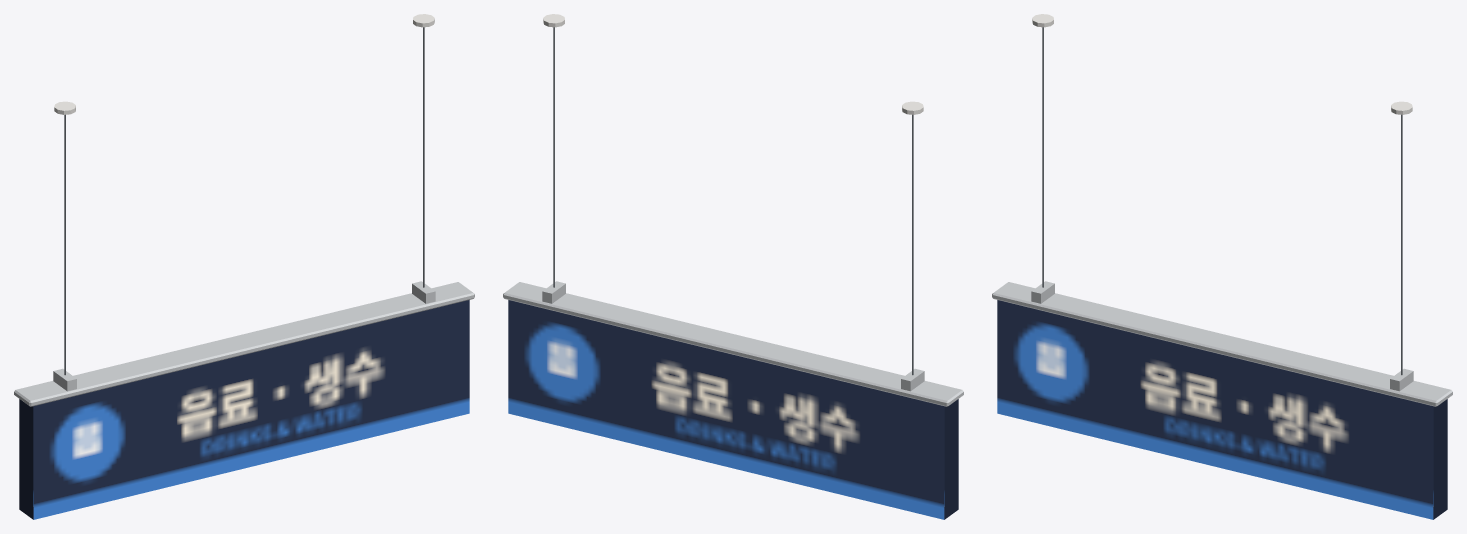
Rendered from SC_Fix_Aisle_Sign_Drink.gltf.
3 renders of one model, left to right at view 1: azimuth 30°, elevation 25°; view 2: azimuth 150°, elevation 25°; view 3: azimuth 330°, elevation 25°, orthographic.
Visible parts, largest first — view 1: SC_Fix_Aisle_Sign_Drink; view 2: SC_Fix_Aisle_Sign_Drink; view 3: SC_Fix_Aisle_Sign_Drink.
Part boxes in pixels (x1,y1,x2,y2): SC_Fix_Aisle_Sign_Drink: (14,14,474,519); SC_Fix_Aisle_Sign_Drink: (503,14,963,519); SC_Fix_Aisle_Sign_Drink: (992,14,1452,519).
Bounding box in the file's own units: 0.92 × 0.787 × 0.06.
Materials: 2 (2 with a texture image).
